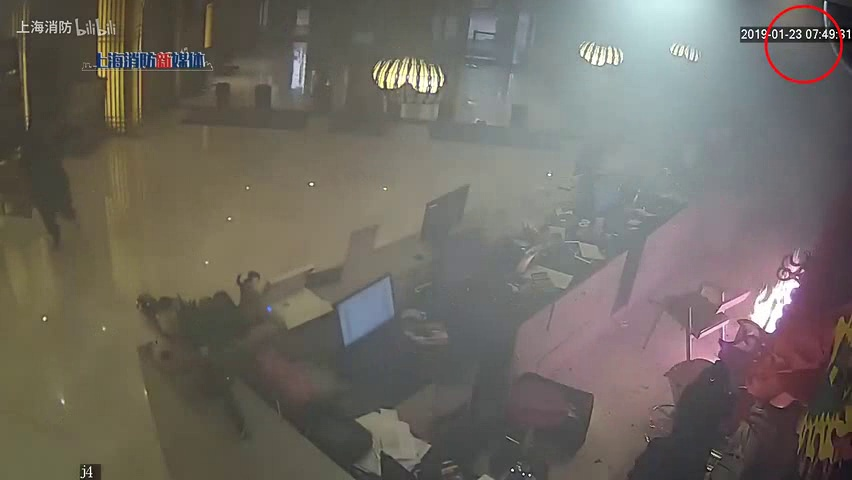fire: (747, 249, 801, 337)
